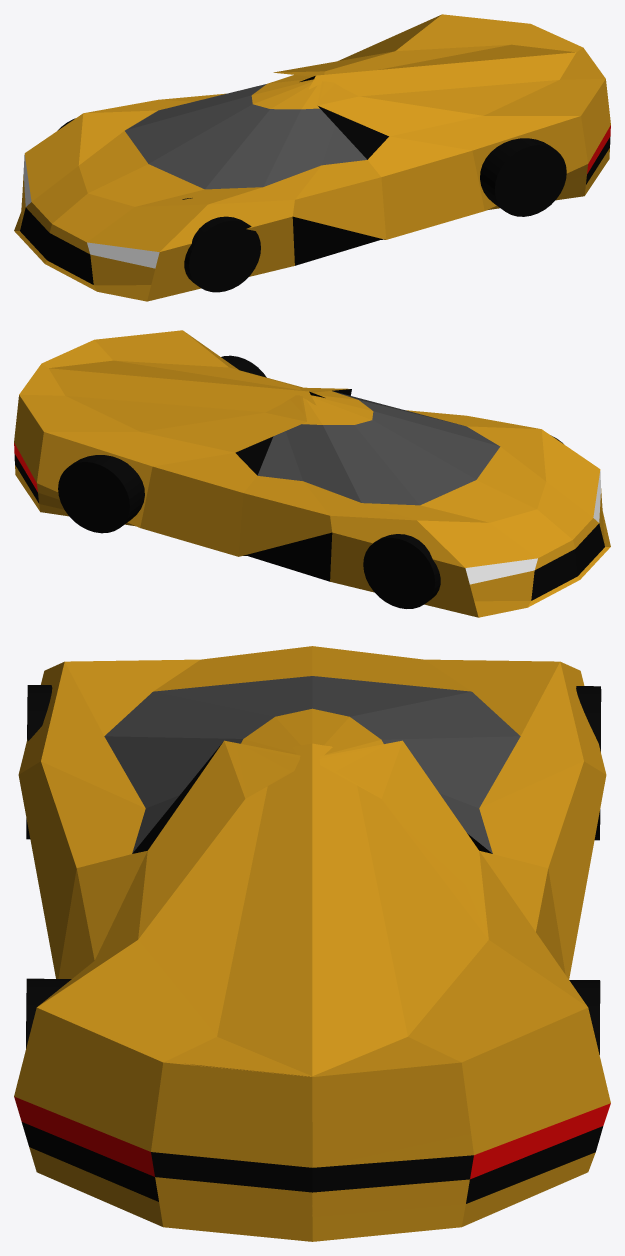
File: RacecarWithSol.fbx
3 views of the same model, one above another, from view 1: azimuth 30°, elevation 25°; view 2: azimuth 150°, elevation 25°; view 3: azimuth 270°, elevation 25° (orthographic). The views are drawn at different scales.
Parts seen in each view (by area): view 1: Sphere, Cylinder.001, Cylinder; view 2: Sphere, Cylinder.001, Cylinder; view 3: Sphere, Cylinder, Cylinder.001.
Part boxes in pixels (x1,y1,x2,y2): Sphere: (14, 14, 610, 301); Cylinder.001: (480, 138, 566, 216); Cylinder: (57, 118, 260, 292); Sphere: (14, 330, 610, 617); Cylinder.001: (58, 355, 266, 533); Cylinder: (363, 435, 563, 608); Sphere: (14, 646, 610, 1241); Cylinder: (26, 685, 601, 840); Cylinder.001: (26, 978, 600, 1054).
Size of the model in its own units: 1002 by 219 by 481.
